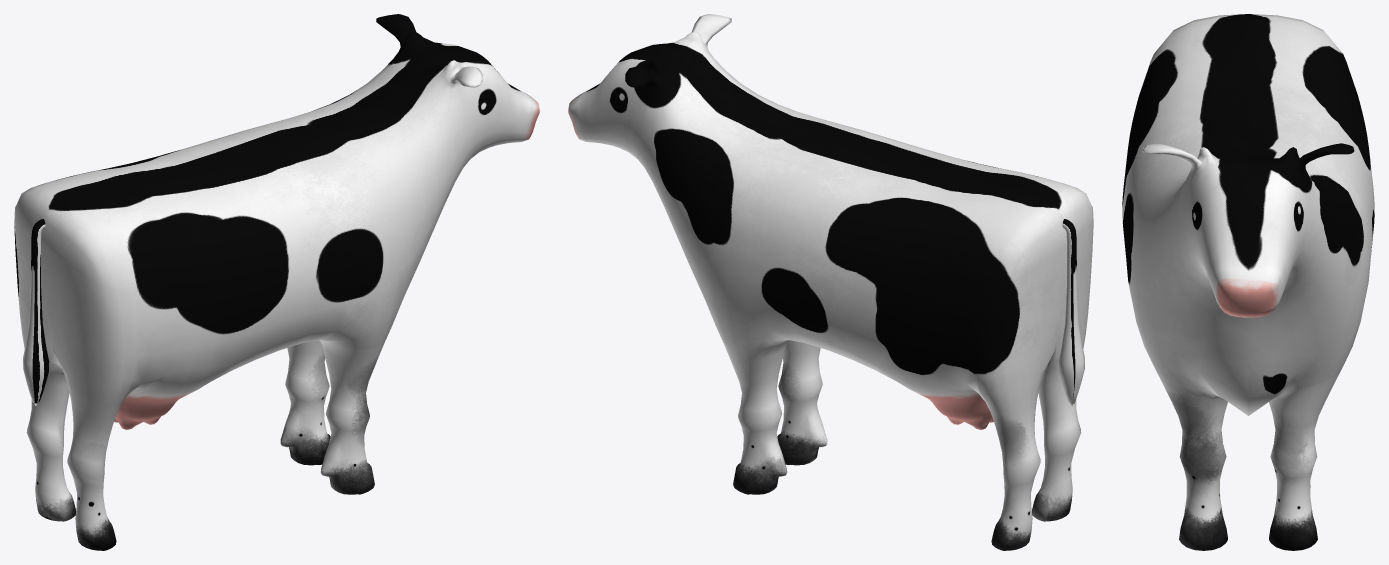
File: Cow (1).fbx
3 views of the same model, side by side, from view 1: azimuth 30°, elevation 25°; view 2: azimuth 150°, elevation 25°; view 3: azimuth 270°, elevation 25° (orthographic). The views are drawn at different scales.
Parts seen in each view (by area): view 1: Cow, Tail; view 2: Cow, Tail; view 3: Cow.
Part boxes in pixels (box(x1,y1,x2,y2)): Cow: box(14, 14, 539, 550); Tail: box(23, 219, 49, 405); Cow: box(568, 14, 1093, 550); Tail: box(1058, 219, 1084, 405); Cow: box(1122, 14, 1374, 550).
Size of the model in its own units: 179 by 135 by 68.84.
